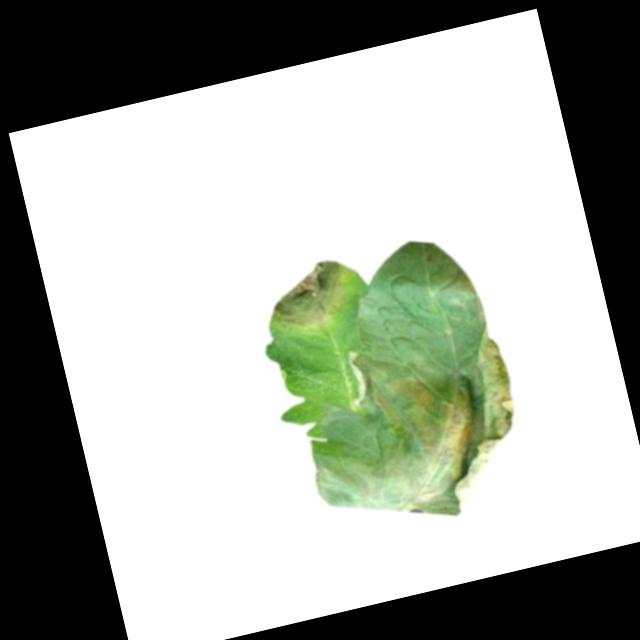Late_blight: (349, 323, 538, 530), (259, 253, 361, 343), (308, 442, 385, 522)
